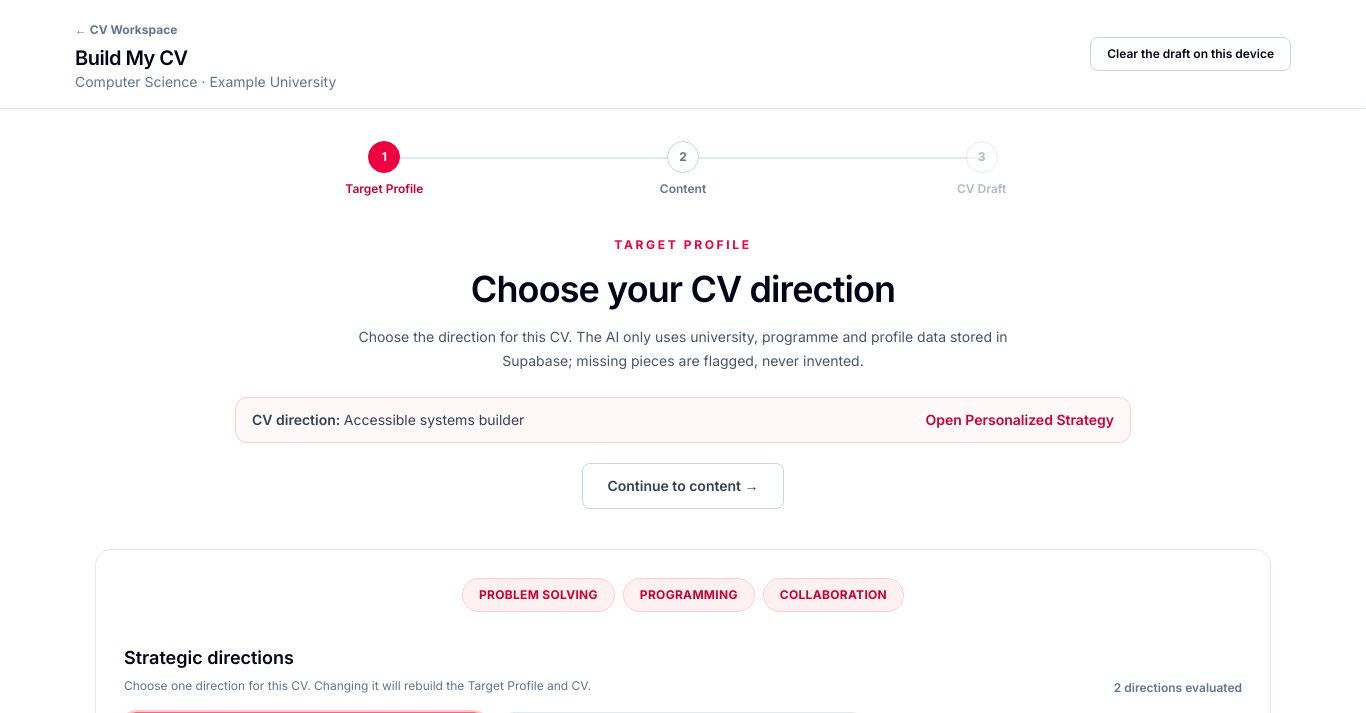
Test case: CvBuilderWorkspace › opens the content step and enforces five contributions per entry
Click the button "2 Content" at point(683, 169), box [534,141,832,197]
(page scrolled)
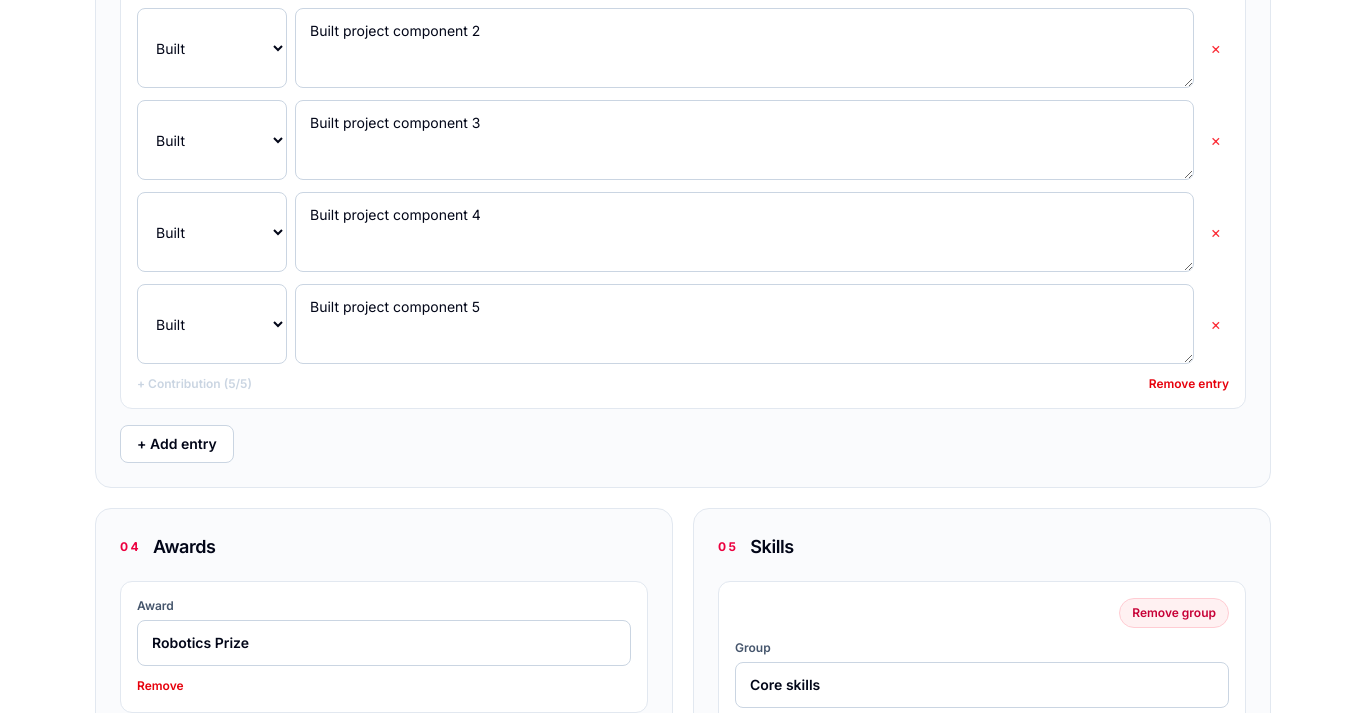
Result: the button "+ Contribution (5/5)" is disabled at [137,376,252,392]
